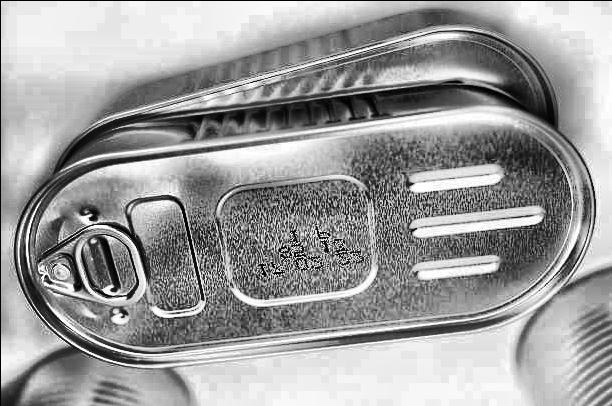can: (9, 85, 608, 380), (44, 10, 573, 187)
